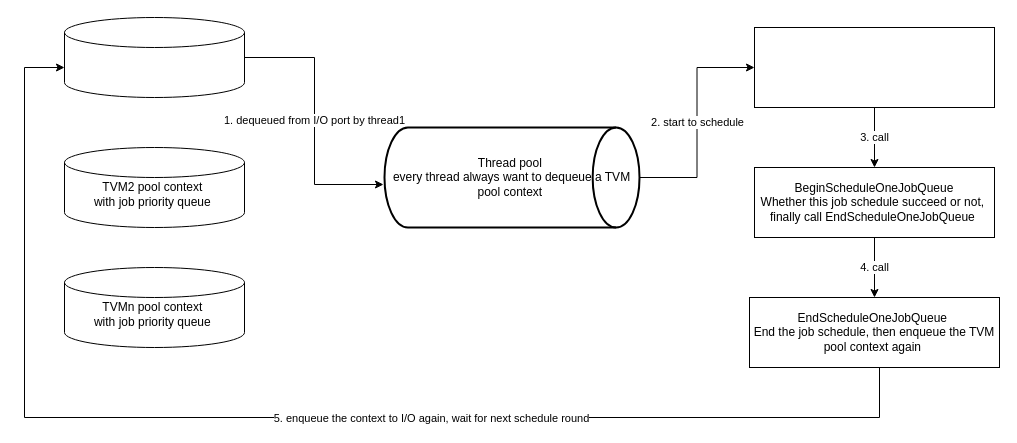
Some shapes in this 1017 by 443 pixel diagram are drawn without their labels. Here are the shapes that lost their labels. From the top down, the box of each, then its label:
(64, 16, 244, 98): TVM1 pool context with job priority queue
(754, 26, 994, 108): Pop the top job from job priority queue then call BeginScheduleOneJobQueue
